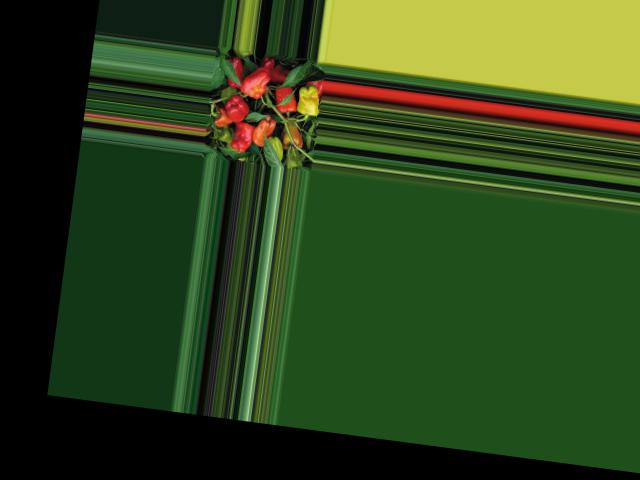bell_pepper: (211, 111, 232, 128)
